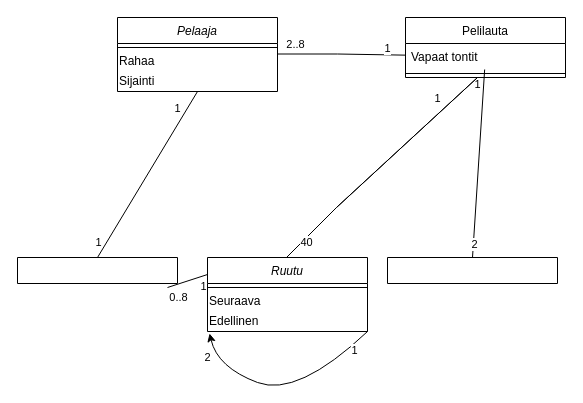
This 583x403 diagram has some shape labels left out. The centre of each missing label's shape, as x and y in pixels:
Noppa: the point at 472,270
Pelinappula: the point at 97,270
